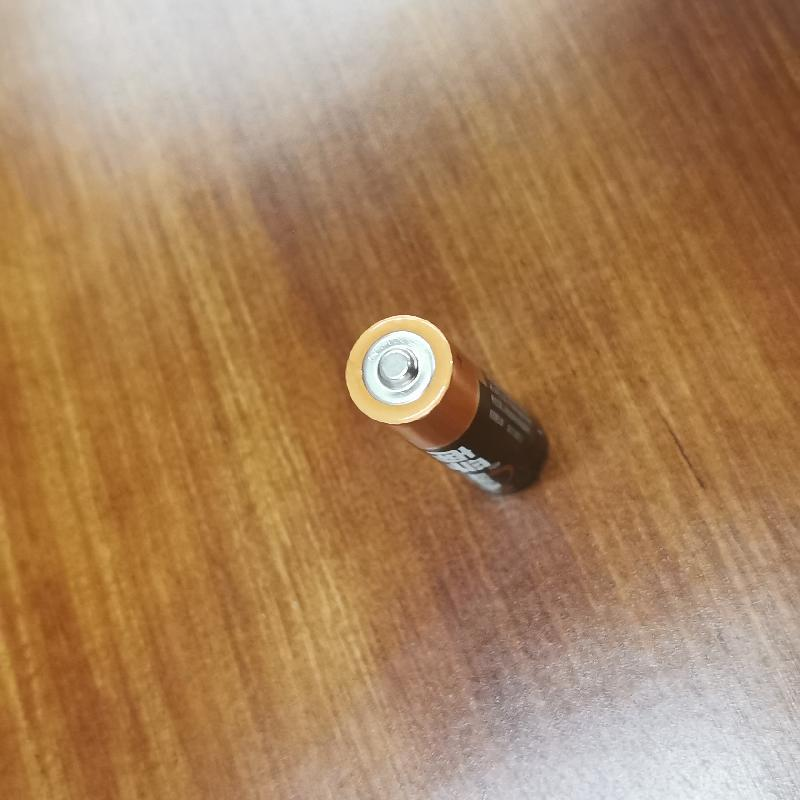battery: (344, 312, 565, 505)
